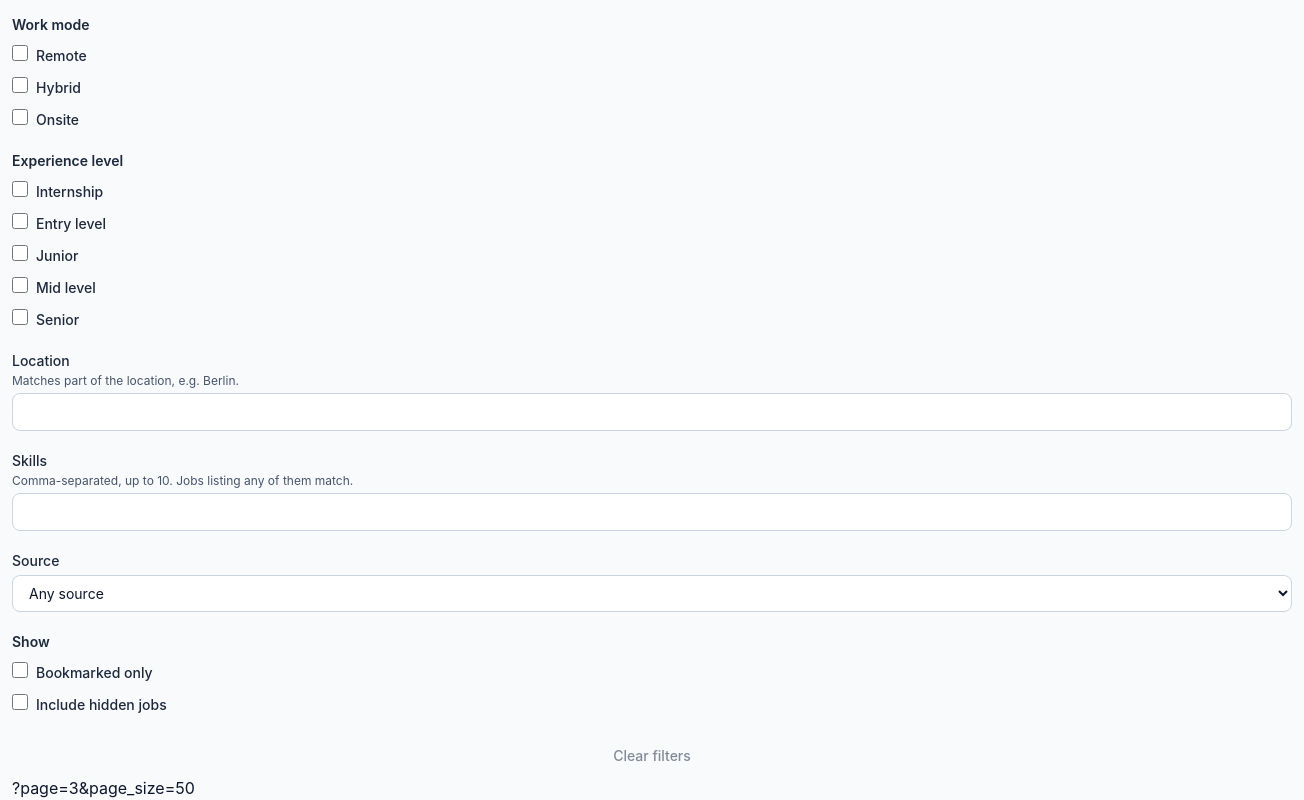
Test: JobFilters › resets the page when a filter changes
The width and height of the screenshot is (1304, 800).
(page scrolled)
Click the checkbox labelled "Bookmarked only" at [20, 670], box [12,662,28,678]
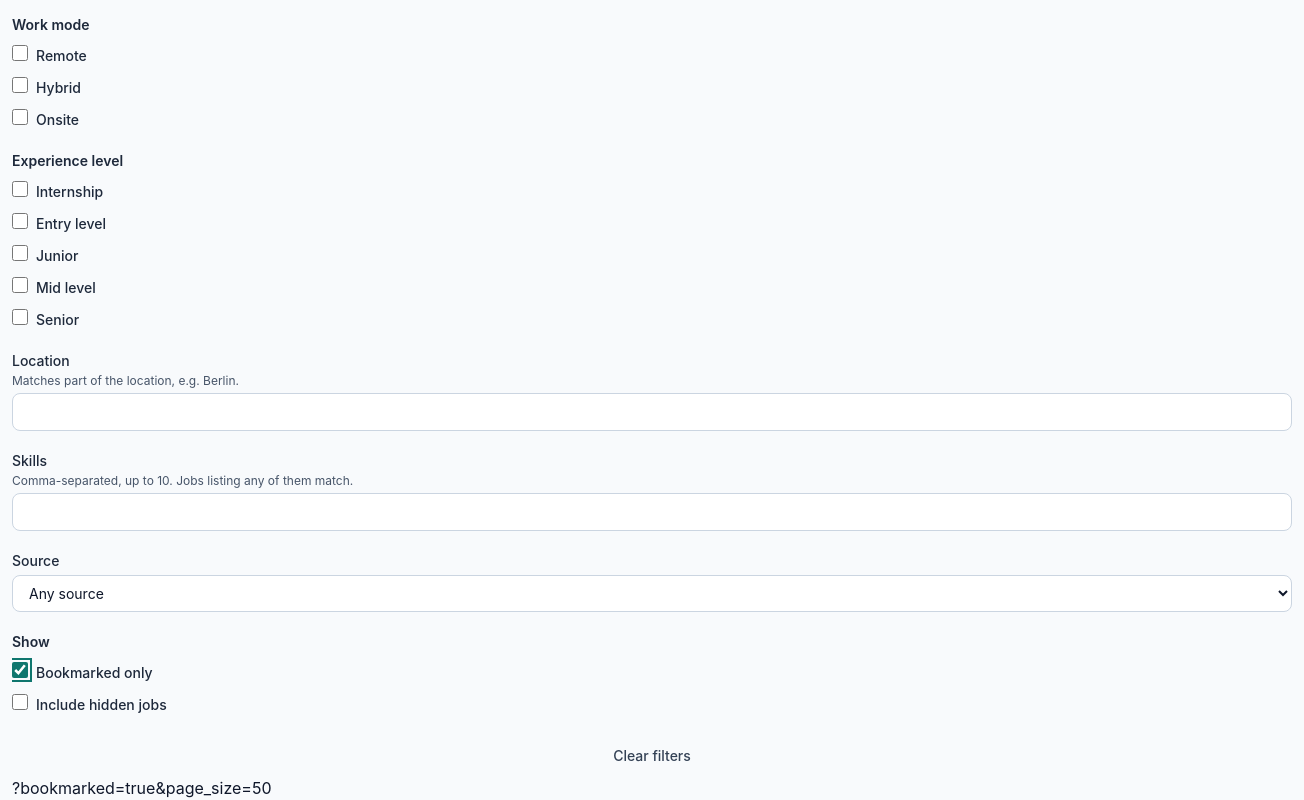
expect the text named "Current search" reads "?bookmarked=true&page_size=50": met, box [12,778,272,798]
